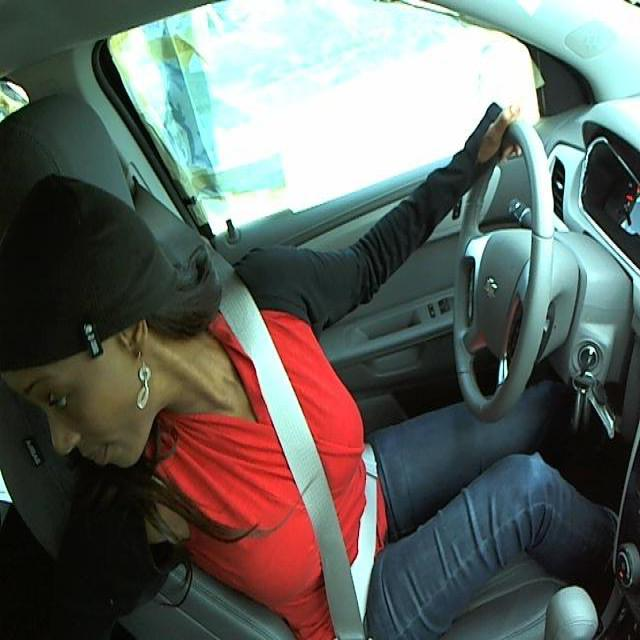seatbelt: (214, 308, 395, 632)
